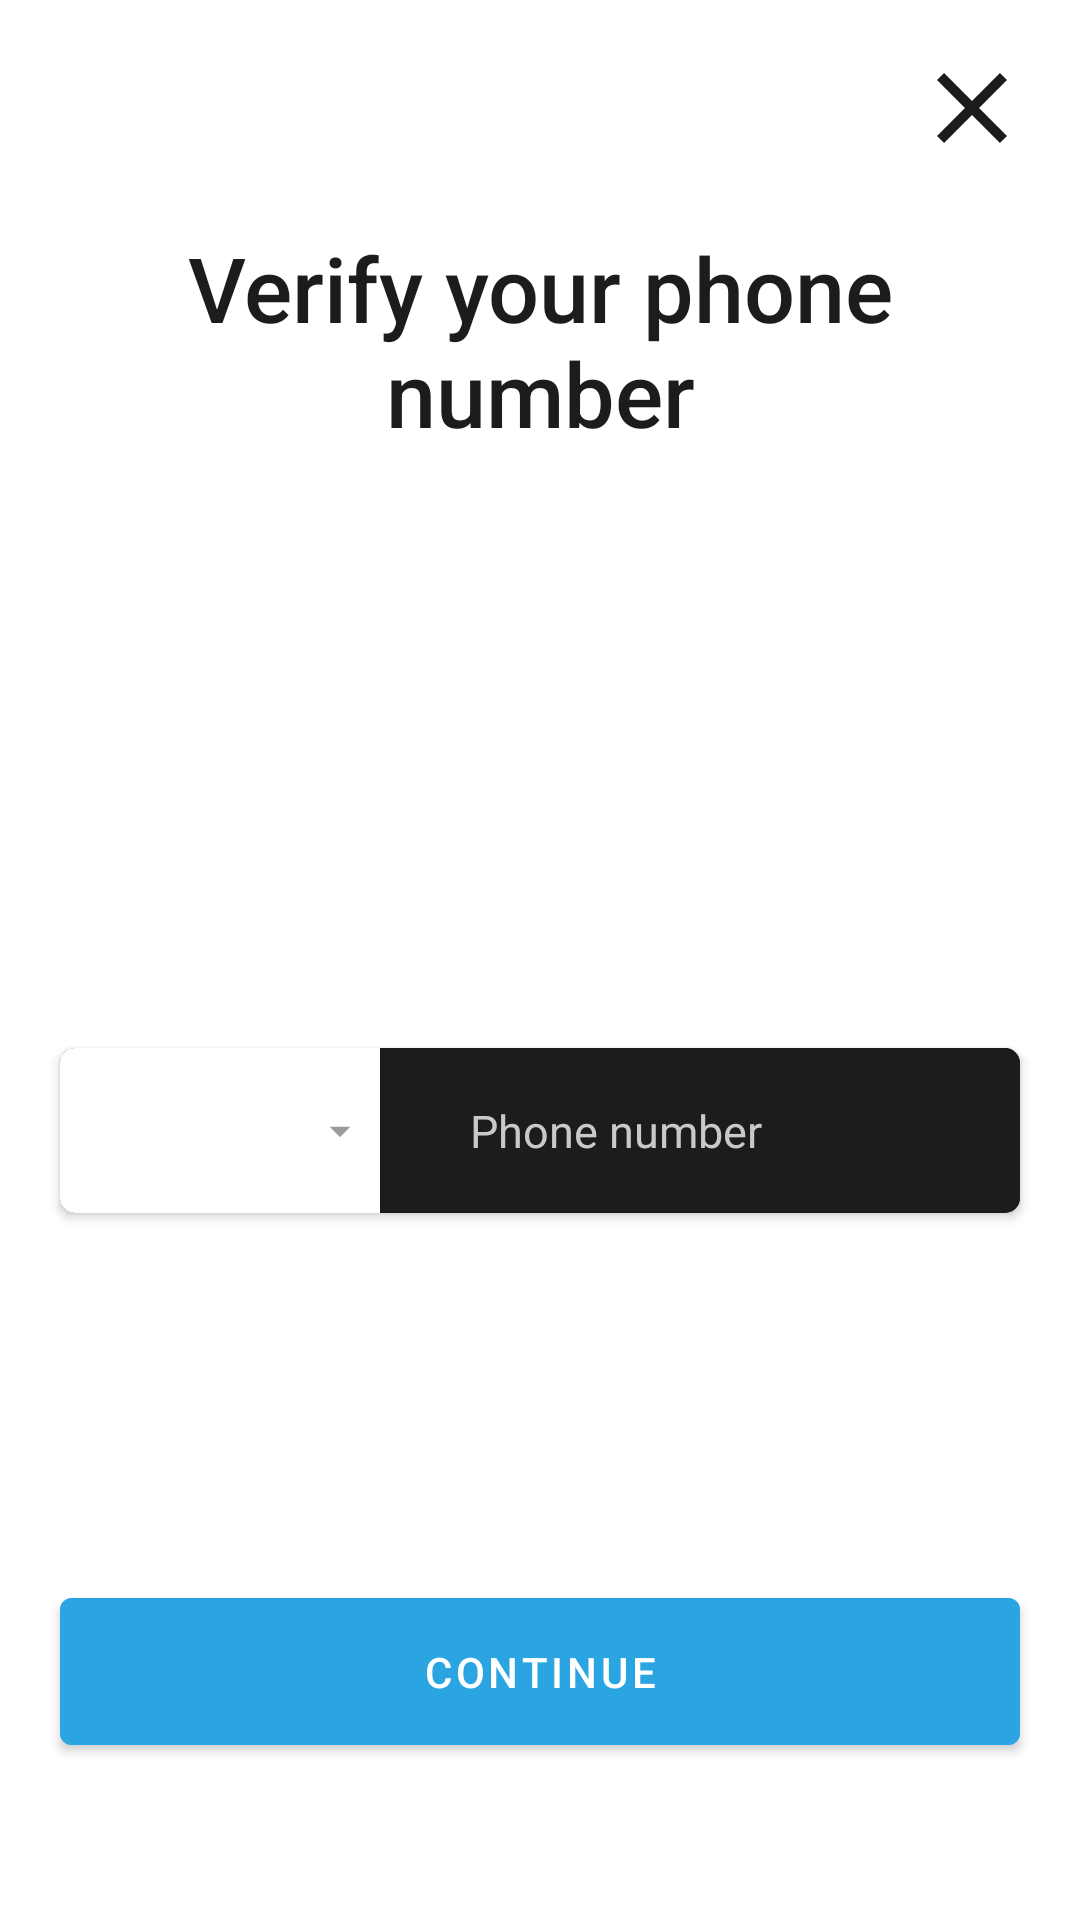

Icon bounding boxes for this 1080 × 1920 phone screenshot, format bbox=(x1, y1, x2, y2):
close: bbox=(937, 73, 1007, 143)
